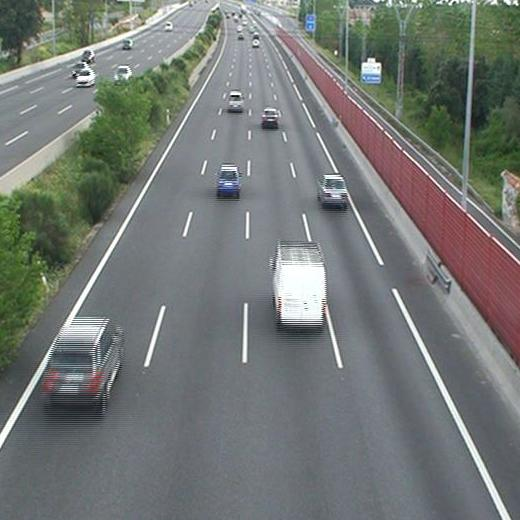car: (44, 318, 124, 399), (319, 174, 348, 204), (217, 166, 239, 192), (227, 91, 243, 111), (262, 108, 278, 124), (251, 38, 260, 47)
van: (273, 242, 326, 327)
